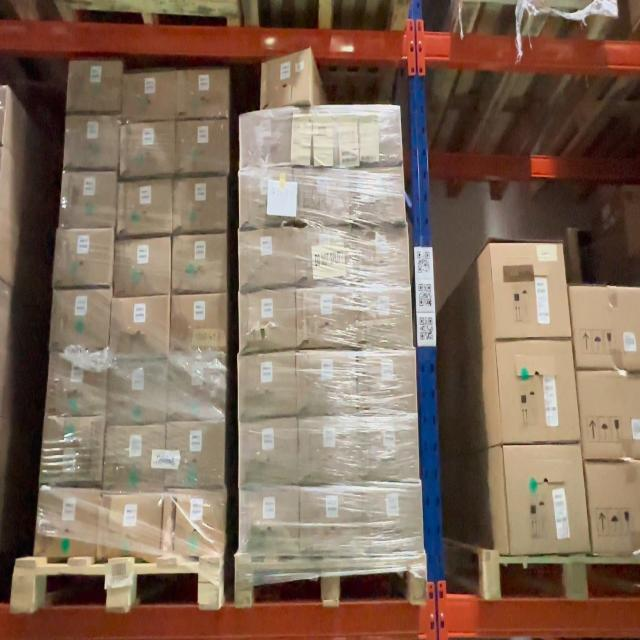box: (42, 488, 96, 554), (45, 419, 99, 484), (239, 492, 298, 551), (240, 428, 298, 488), (102, 496, 160, 555), (302, 426, 360, 484), (240, 357, 296, 417), (172, 296, 225, 358), (55, 286, 106, 350), (106, 427, 164, 483), (299, 358, 355, 416), (303, 493, 359, 549), (51, 352, 103, 412), (240, 291, 294, 348), (364, 491, 421, 544), (239, 232, 294, 286), (169, 430, 222, 486), (359, 290, 410, 348), (363, 356, 414, 414), (368, 419, 418, 478), (67, 60, 121, 114), (299, 293, 354, 346), (60, 228, 110, 286), (112, 302, 168, 353), (112, 364, 164, 418), (168, 497, 220, 551), (172, 362, 221, 419), (118, 242, 172, 292), (62, 174, 114, 225), (298, 174, 350, 225), (299, 228, 351, 278), (65, 121, 118, 170), (122, 126, 171, 179), (350, 109, 399, 162), (354, 171, 404, 221), (176, 124, 227, 172), (118, 186, 171, 232), (297, 113, 343, 166), (177, 69, 226, 118), (359, 230, 407, 280), (241, 176, 292, 223), (129, 69, 173, 123), (177, 184, 226, 232), (176, 240, 224, 288), (242, 119, 292, 165), (263, 61, 312, 107)
